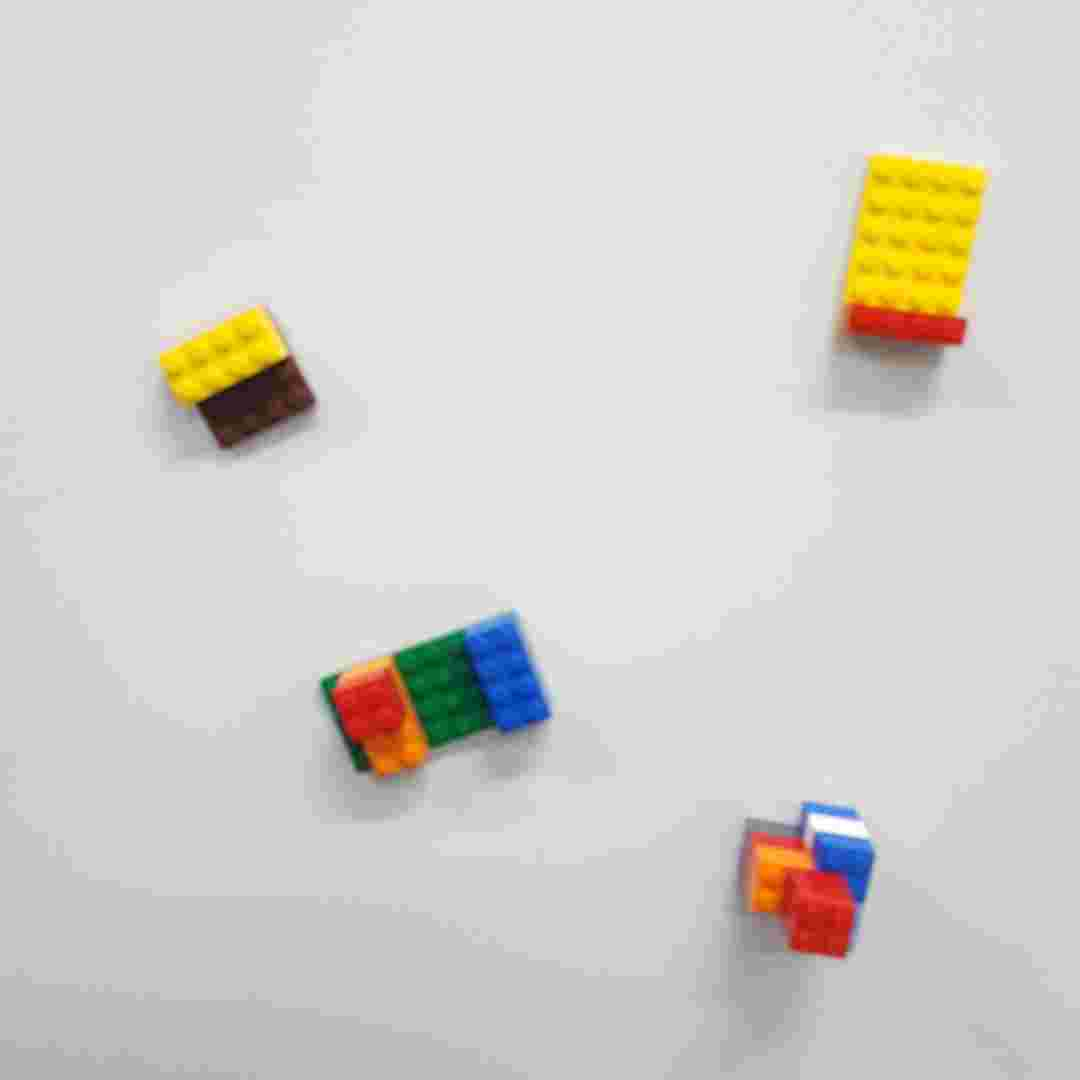LEGO: (319, 608, 563, 780), (836, 151, 991, 349), (161, 300, 323, 449), (734, 797, 875, 963)
